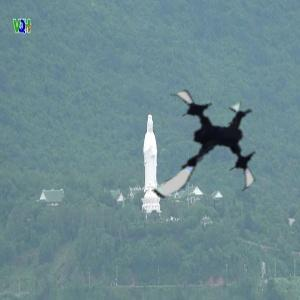drone: (136, 82, 269, 215)
